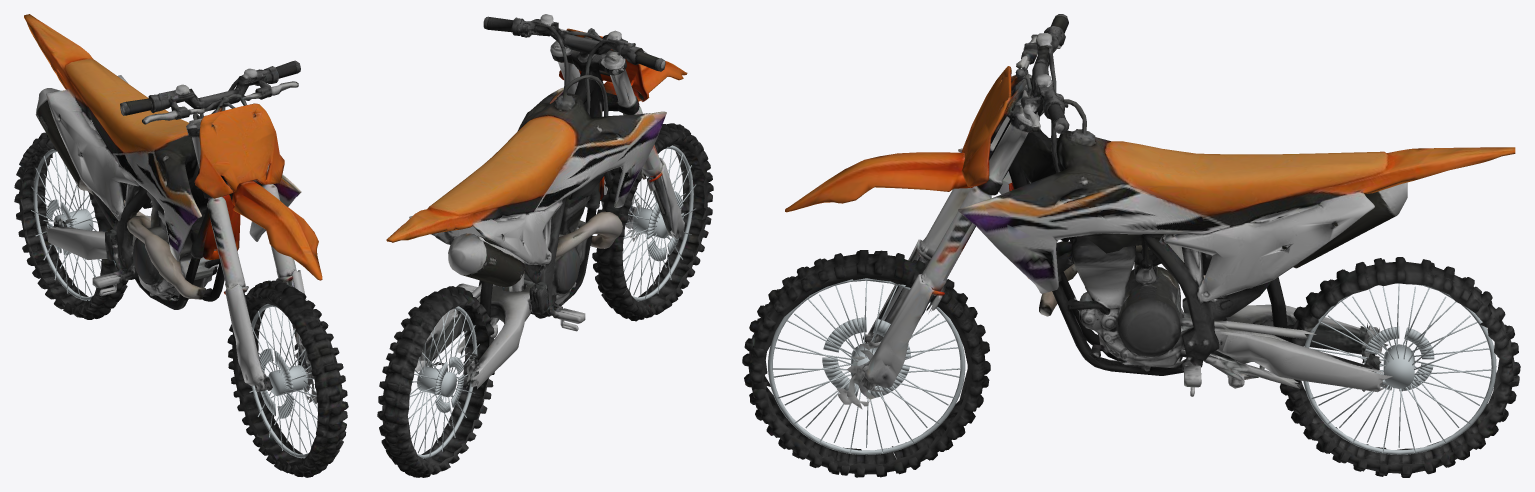
The model's file is orange-cross-mobile-CnHRo-pH.glb.
3 views of the same model, side by side, from view 1: azimuth 30°, elevation 25°; view 2: azimuth 150°, elevation 25°; view 3: azimuth 270°, elevation 25° (orthographic). The views are drawn at different scales.
Visible parts, largest first — view 1: SM_Tripo_Body, SM_Tripo_Fork, SM_Tripo_WheelFront, SM_Tripo_WheelRear, SM_Tripo_WheelFront_CleanSpokes, SM_Tripo_Handlebar, SM_Tripo_WheelRear_CleanSpokes, SM_Tripo_Swingarm_Chain; view 2: SM_Tripo_Body, SM_Tripo_WheelRear, SM_Tripo_Fork, SM_Tripo_WheelFront, SM_Tripo_Swingarm_Chain, SM_Tripo_WheelRear_CleanSpokes, SM_Tripo_Handlebar, SM_Tripo_WheelFront_CleanSpokes; view 3: SM_Tripo_Body, SM_Tripo_Fork, SM_Tripo_WheelRear, SM_Tripo_WheelFront, SM_Tripo_Swingarm_Chain, SM_Tripo_WheelRear_CleanSpokes, SM_Tripo_WheelFront_CleanSpokes, SM_Tripo_Handlebar.
Part boxes in pixels (x1=…): SM_Tripo_Body: x1=24, y1=14, x2=294, y2=309; SM_Tripo_Fork: x1=142, y1=66, x2=348, y2=474; SM_Tripo_WheelFront: x1=229, y1=280, x2=347, y2=477; SM_Tripo_WheelRear: x1=14, y1=132, x2=128, y2=319; SM_Tripo_WheelFront_CleanSpokes: x1=249, y1=304, x2=317, y2=458; SM_Tripo_Handlebar: x1=120, y1=60, x2=300, y2=142; SM_Tripo_WheelRear_CleanSpokes: x1=31, y1=149, x2=101, y2=300; SM_Tripo_Swingarm_Chain: x1=45, y1=215, x2=150, y2=259; SM_Tripo_Body: x1=386, y1=68, x2=661, y2=331; SM_Tripo_WheelRear: x1=377, y1=286, x2=494, y2=477; SM_Tripo_Fork: x1=516, y1=14, x2=713, y2=317; SM_Tripo_WheelFront: x1=594, y1=123, x2=711, y2=321; SM_Tripo_Swingarm_Chain: x1=414, y1=276, x2=545, y2=388; SM_Tripo_WheelRear_CleanSpokes: x1=408, y1=306, x2=479, y2=458; SM_Tripo_Handlebar: x1=483, y1=16, x2=665, y2=78; SM_Tripo_WheelFront_CleanSpokes: x1=622, y1=145, x2=696, y2=301; SM_Tripo_Body: x1=943, y1=101, x2=1515, y2=396; SM_Tripo_Fork: x1=749, y1=26, x2=1074, y2=477; SM_Tripo_WheelRear: x1=1277, y1=257, x2=1520, y2=477; SM_Tripo_WheelFront: x1=742, y1=250, x2=990, y2=477; SM_Tripo_Swingarm_Chain: x1=1220, y1=231, x2=1392, y2=392; SM_Tripo_WheelRear_CleanSpokes: x1=1303, y1=283, x2=1496, y2=454; SM_Tripo_WheelFront_CleanSpokes: x1=768, y1=278, x2=965, y2=454; SM_Tripo_Handlebar: x1=989, y1=14, x2=1073, y2=133.
Bounding box in the file's own units: 0.8387 × 1.54 × 2.57.
Materials: 2 (1 with a texture image).
